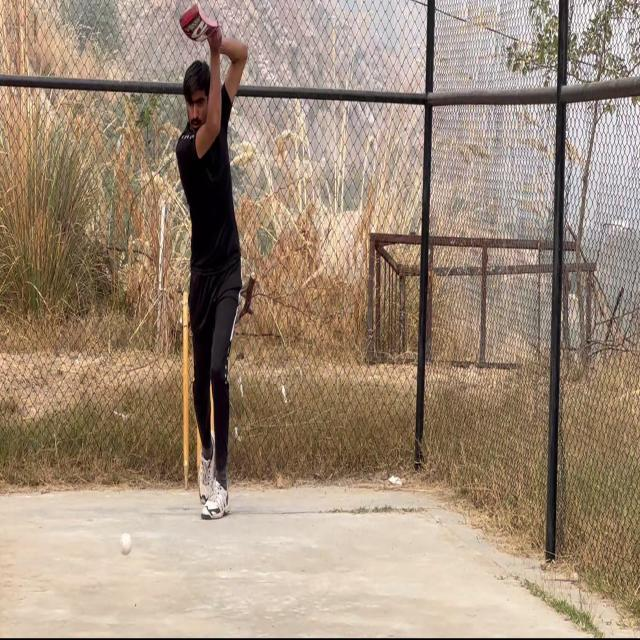Batsman: (164, 48, 261, 517)
